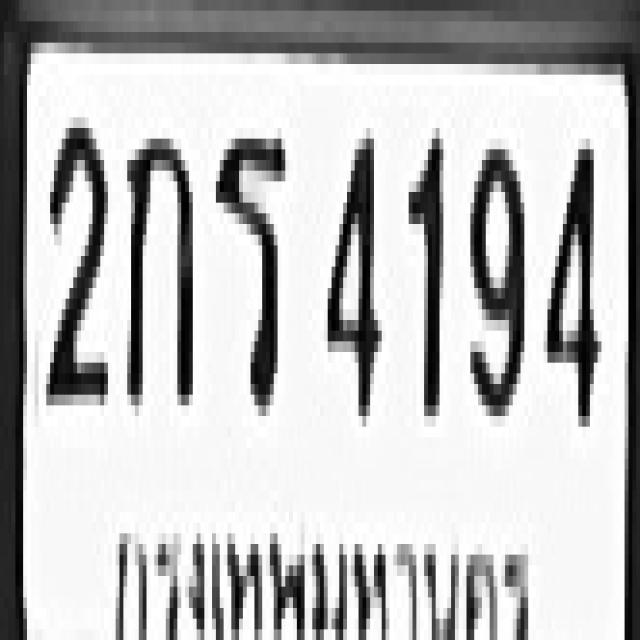1: (405, 117, 439, 406)
10GorGai: (123, 117, 189, 395)
2: (43, 112, 104, 400)
4: (324, 122, 378, 410), (544, 128, 594, 416)
44RorRuea: (212, 117, 285, 406)
9: (466, 128, 520, 405)
Bangkok: (104, 490, 539, 640)
